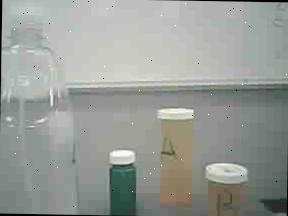Bottle A: (153, 108, 196, 210)
Bottle B: (203, 160, 252, 216)
Bottle C: (104, 147, 140, 216)
hazard: (0, 0, 86, 214)
